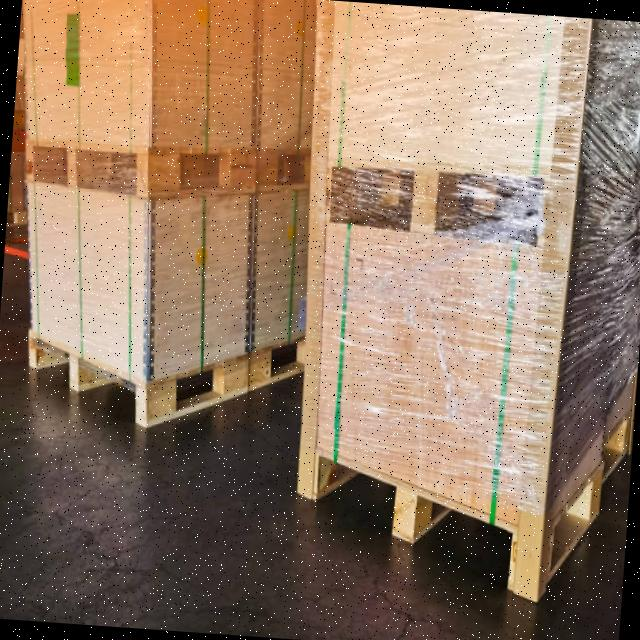Wooden-Pallets: (304, 418, 631, 606), (24, 333, 303, 430)
